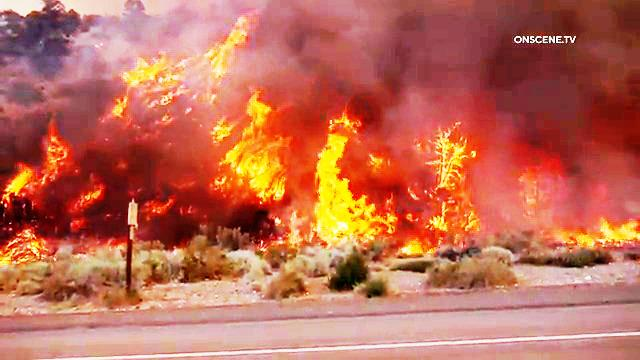fire: (92, 16, 253, 142), (297, 107, 391, 250), (192, 116, 289, 231), (390, 131, 468, 259), (554, 197, 640, 256), (0, 160, 39, 209)
smoke: (274, 6, 490, 105), (477, 55, 636, 141), (0, 25, 67, 119)
